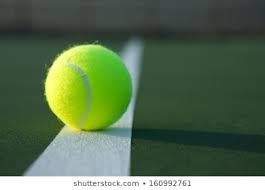tennis_ball: (44, 42, 133, 131)
